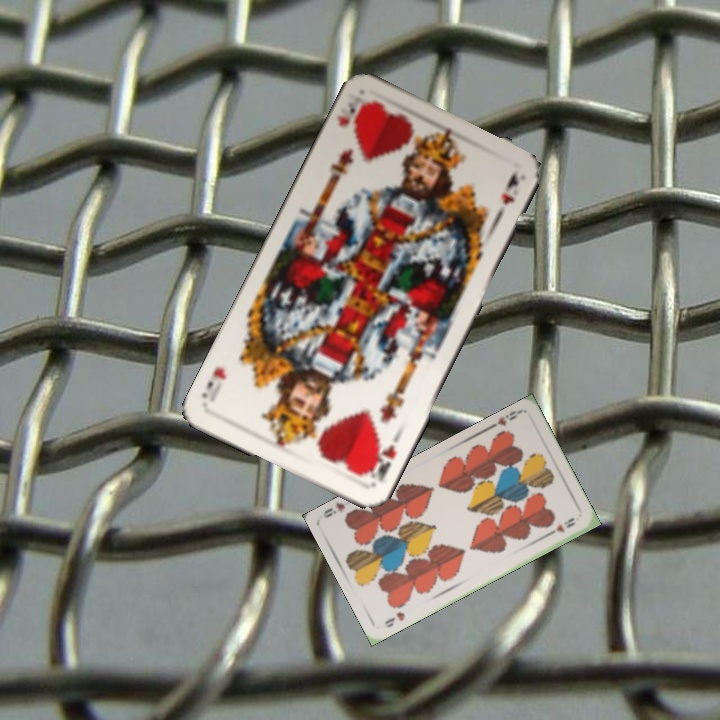H9: (485, 406, 523, 431), (380, 607, 408, 630)
HK: (333, 89, 372, 135), (362, 440, 399, 485)
